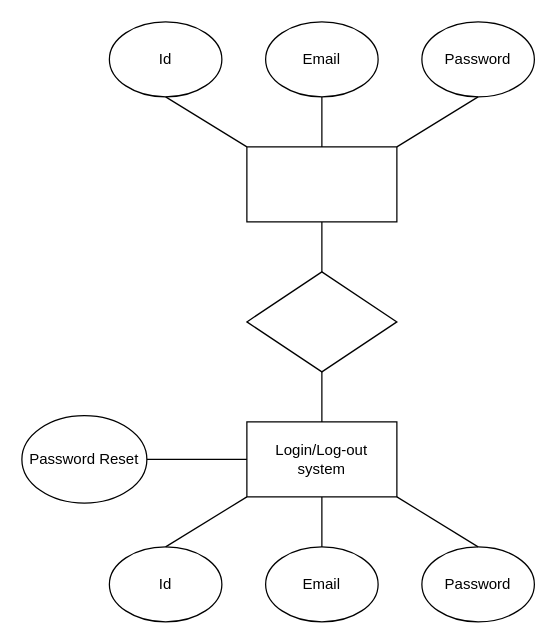
The diagram is 556 pixels wide and 644 high, and some of its shapes have lost their labels. Each missing label, with the centre of its shape:
Access: the point at 321,321
Users: the point at 321,184
